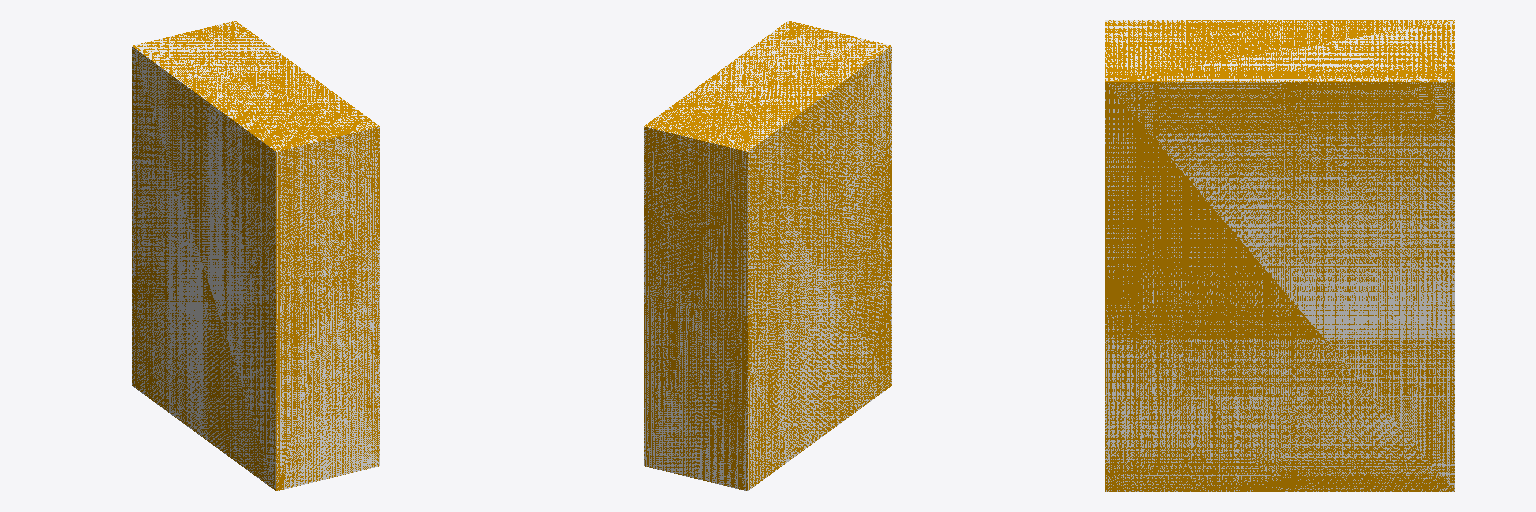
The robot description file, URDF, robot "my_object":
<?xml version="1.0" ?> 
<robot name="my_object" static="true">
  <link name="base_link">
  <inertial>
    <mass value="2.111" />
    <origin xyz="0 0 0.0" />
    <inertia ixx="1.0" ixy="0.0" ixz="0.0" iyy="1.0" iyz="0.0" izz="1.0"/>
  </inertial>
  <visual>
   <origin xyz="0 0 0.0" rpy="0 0 0" />
   <geometry>
     <mesh filename="package://cob_gazebo_objects/Media/models/book_gardening.dae"/>
   </geometry>
  </visual>
  <collision>
   <origin xyz="0 0 0" rpy="0 0 0" />
   <geometry>
     <box size="0.066 0.17 0.207" />
   </geometry>
  </collision>     
  </link>

<gazebo>
	<static>true</static>
</gazebo>

<gazebo reference="base_link">
  <mu1>50.0</mu1>
  <mu2>50.0</mu2>
  <kp>1000000.0</kp>
  <kd>1.0</kd>
</gazebo>
</robot>

--- What the picture shows (computed from the rendered views, not written in the file) ---
3 views of the same robot in one strip: view 1: azimuth 30°, elevation 25°; view 2: azimuth 150°, elevation 25°; view 3: azimuth 270°, elevation 25° (orthographic).
Robot: my_object — 1 links, 0 joints (none); root link base_link; default pose: all joints at 0.
Visible links, largest first — view 1: base_link; view 2: base_link; view 3: base_link.
Link boxes in pixels (box(x1,y1,x2,y2)): base_link: box(132, 21, 379, 490); base_link: box(644, 21, 891, 490); base_link: box(1105, 20, 1454, 491).
Bounding box of the posed robot: 0.0663 × 0.1595 × 0.2066 m (x, y, z).
Meshes: 1 distinct files referenced, 1 mesh visuals loaded (1 Collada DAE).